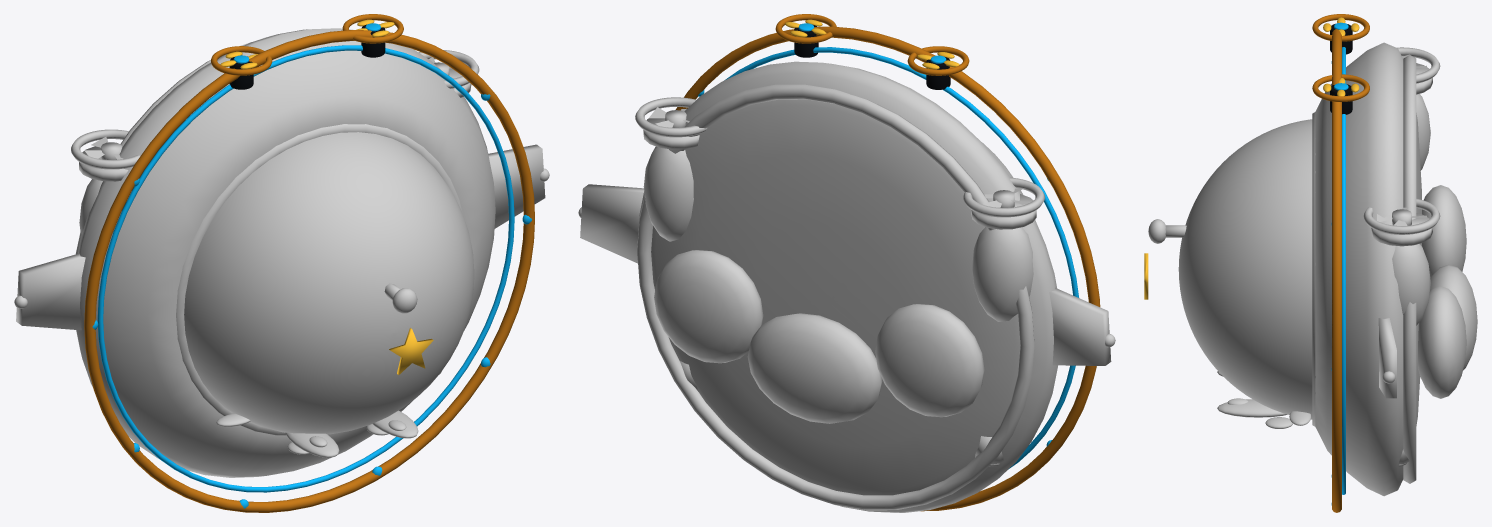
The model's file is kirbysub_detallado.obj.
3 views of the same model, side by side, from view 1: azimuth 30°, elevation 25°; view 2: azimuth 150°, elevation 25°; view 3: azimuth 270°, elevation 25° (orthographic). The views are drawn at different scales.
Visible parts, largest first — view 1: KIRBY_SUBMARINE_NO_SMILE, Submarine_Pressure_Ring, Submarine_Energy_Band, Submarine_Star_Emblem, Sub_Propeller_Guard_L, Sub_Propeller_Guard_R; view 2: KIRBY_SUBMARINE_NO_SMILE, Submarine_Pressure_Ring, Submarine_Energy_Band, Sub_Propeller_Guard_R, Sub_Propeller_Guard_L; view 3: KIRBY_SUBMARINE_NO_SMILE, Submarine_Pressure_Ring, Submarine_Energy_Band, Sub_Propeller_Guard_R, Sub_Propeller_Guard_L.
Part boxes in pixels (box(x1,y1,x2,y2)): KIRBY_SUBMARINE_NO_SMILE: box(14, 28, 549, 477); Submarine_Pressure_Ring: box(84, 30, 534, 512); Submarine_Energy_Band: box(97, 45, 514, 492); Submarine_Star_Emblem: box(389, 328, 433, 374); Sub_Propeller_Guard_L: box(211, 46, 272, 75); Sub_Propeller_Guard_R: box(342, 14, 403, 43); KIRBY_SUBMARINE_NO_SMILE: box(578, 61, 1115, 512); Submarine_Pressure_Ring: box(675, 26, 1100, 511); Submarine_Energy_Band: box(724, 47, 1078, 469); Sub_Propeller_Guard_R: box(775, 14, 836, 43); Sub_Propeller_Guard_L: box(907, 46, 969, 75); KIRBY_SUBMARINE_NO_SMILE: box(1148, 42, 1477, 496); Submarine_Pressure_Ring: box(1332, 29, 1341, 512); Submarine_Energy_Band: box(1342, 47, 1345, 494); Sub_Propeller_Guard_R: box(1312, 74, 1369, 102); Sub_Propeller_Guard_L: box(1312, 14, 1369, 41).
Bounding box in the file's own units: 17.43 × 14.68 × 10.04.
